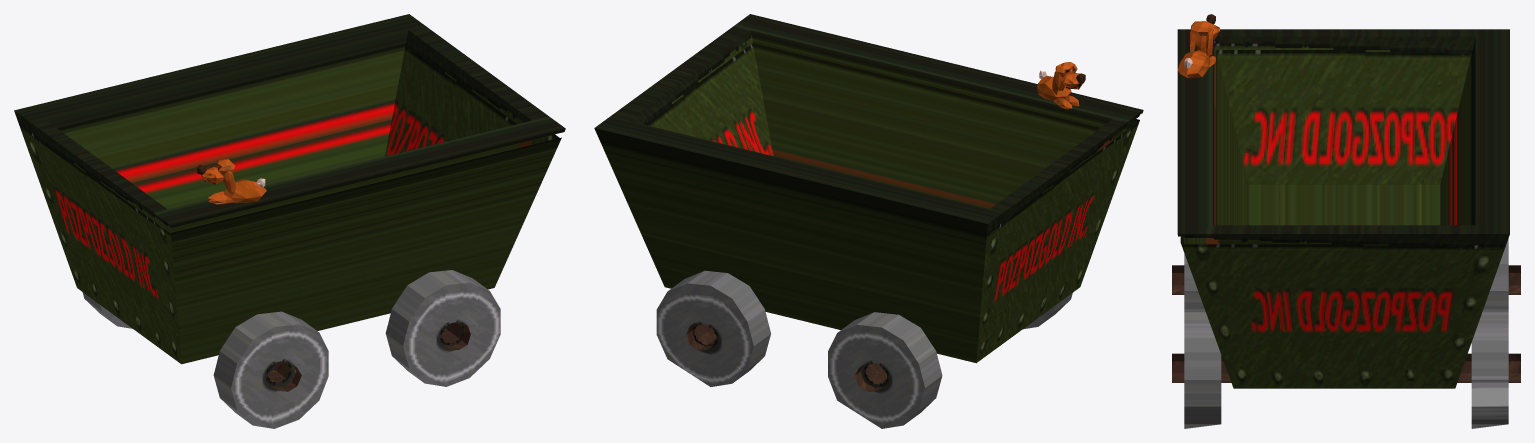
The model's file is Miner.glb.
The picture shows the model from 3 angles, left to right: view 1: azimuth 30°, elevation 25°; view 2: azimuth 150°, elevation 25°; view 3: azimuth 270°, elevation 25°; orthographic projection. The views are drawn at different scales.
Parts seen in each view (by area): view 1: Miner; view 2: Miner; view 3: Miner.
Part boxes in pixels (x1,y1,x2,y2): Miner: [14, 14, 565, 428]; Miner: [594, 14, 1143, 428]; Miner: [1172, 14, 1520, 428].
Bounding box in the file's own units: 263 × 173 × 189.
1 material, 1 textured.
